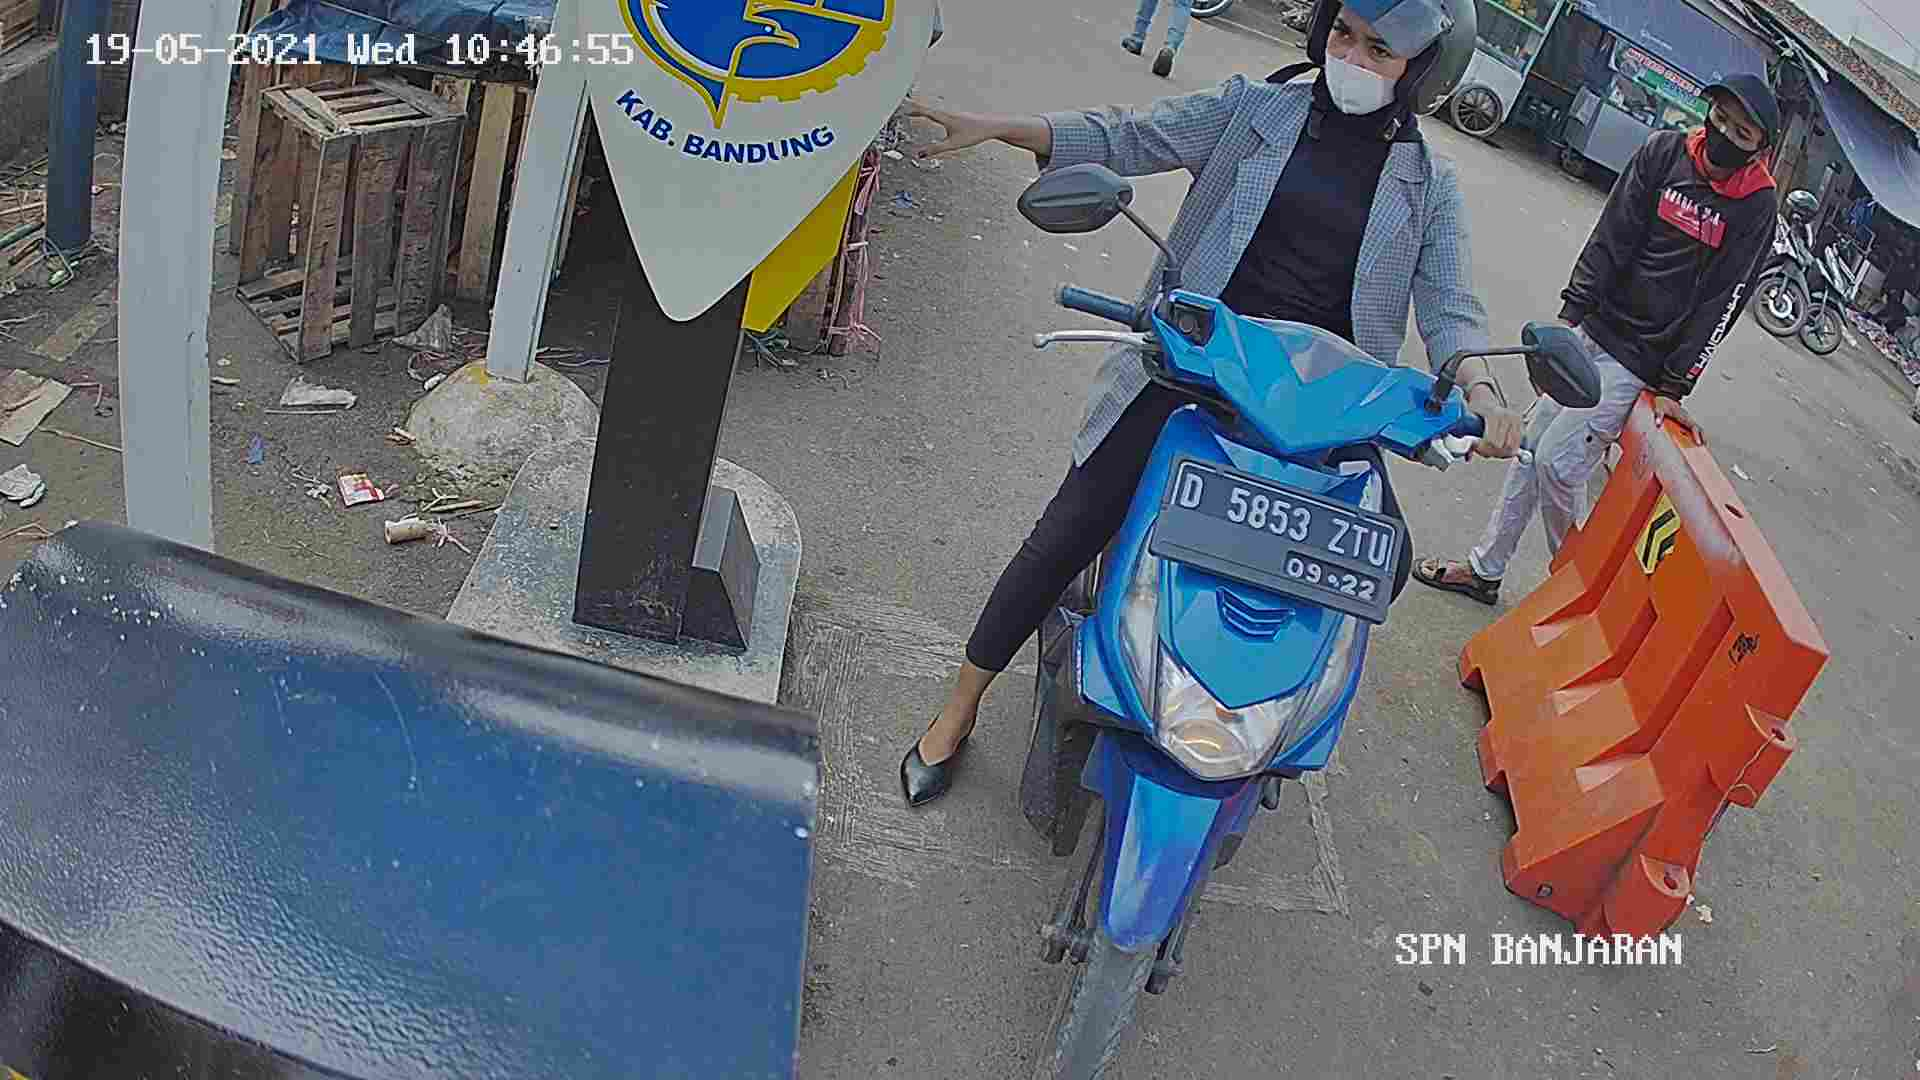motor: (1030, 280, 1447, 1080)
